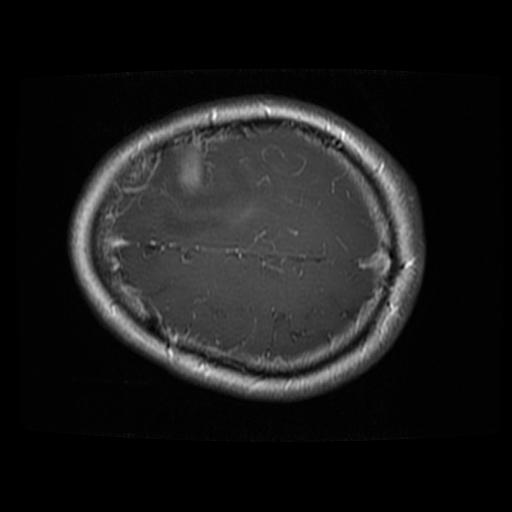glioma: (174, 142, 212, 201)
